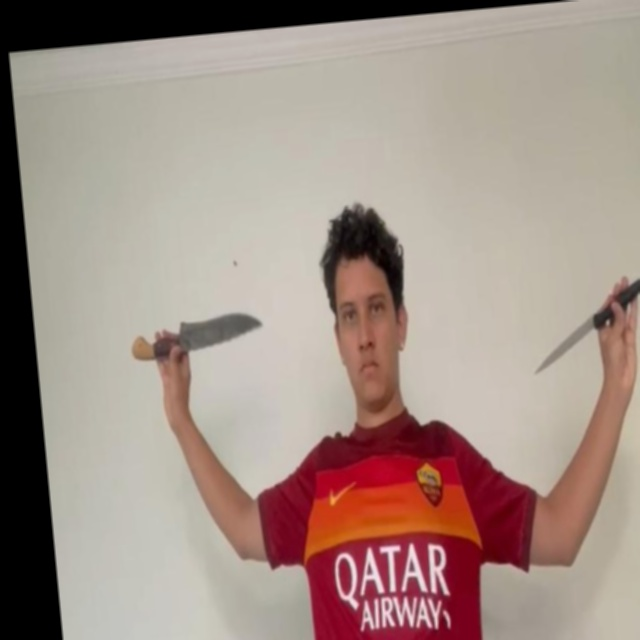Sharp-Object: (529, 313, 599, 375), (176, 309, 266, 353)
